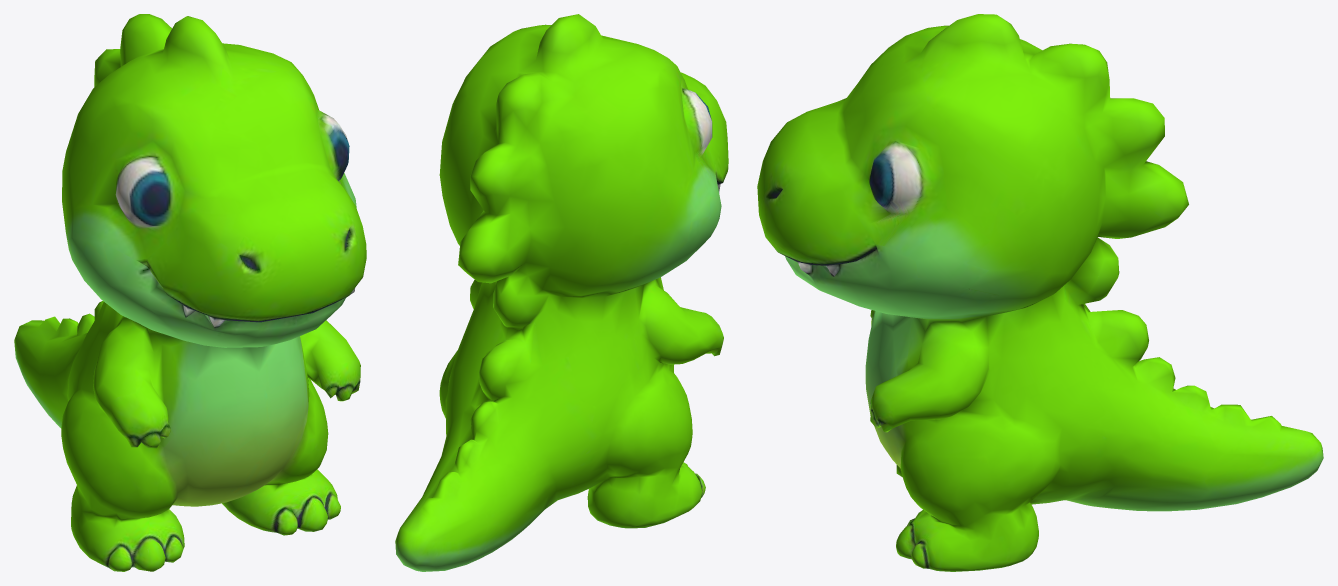
Rendered from dino-rex.glb.
3 views of the same model, side by side, from view 1: azimuth 30°, elevation 25°; view 2: azimuth 150°, elevation 25°; view 3: azimuth 270°, elevation 25° (orthographic). The views are drawn at different scales.
Visible parts, largest first — view 1: tripo_node_b70579b1-ea33-401d-9ba7-df6294f0d268; view 2: tripo_node_b70579b1-ea33-401d-9ba7-df6294f0d268; view 3: tripo_node_b70579b1-ea33-401d-9ba7-df6294f0d268.
Part boxes in pixels (<box>): tripo_node_b70579b1-ea33-401d-9ba7-df6294f0d268: <box>14,14,366,571</box>; tripo_node_b70579b1-ea33-401d-9ba7-df6294f0d268: <box>395,14,728,571</box>; tripo_node_b70579b1-ea33-401d-9ba7-df6294f0d268: <box>757,14,1323,571</box>.
Bounding box in the file's own units: 0.5275 × 0.9555 × 0.9802.
Materials: 1 (1 with a texture image).
